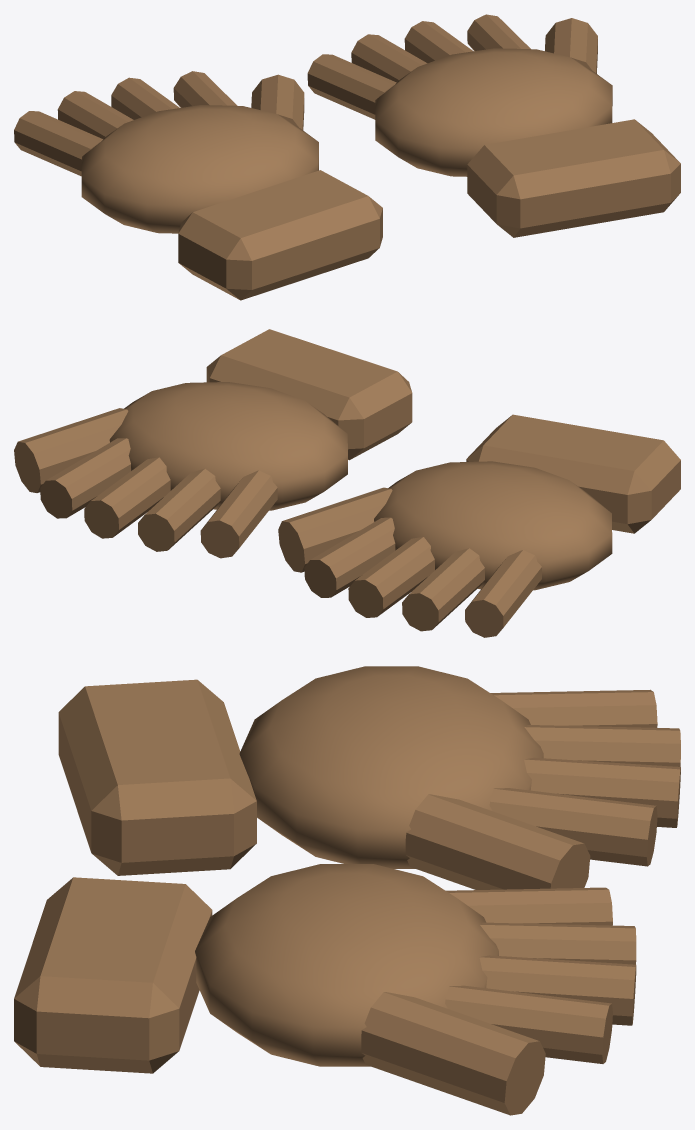
File: item_work_gloves.glb
The picture shows the model from 3 angles, top to bottom: view 1: azimuth 30°, elevation 25°; view 2: azimuth 150°, elevation 25°; view 3: azimuth 270°, elevation 25°; orthographic projection. The views are drawn at different scales.
Parts seen in each view (by area): view 1: item_work_gloves; view 2: item_work_gloves; view 3: item_work_gloves.
Part boxes in pixels (bbox=[...]): item_work_gloves: bbox=[14, 14, 680, 300]; item_work_gloves: bbox=[14, 329, 680, 637]; item_work_gloves: bbox=[14, 666, 680, 1115].
Bounding box in the file's own units: 0.4107 × 0.064 × 0.2994.
